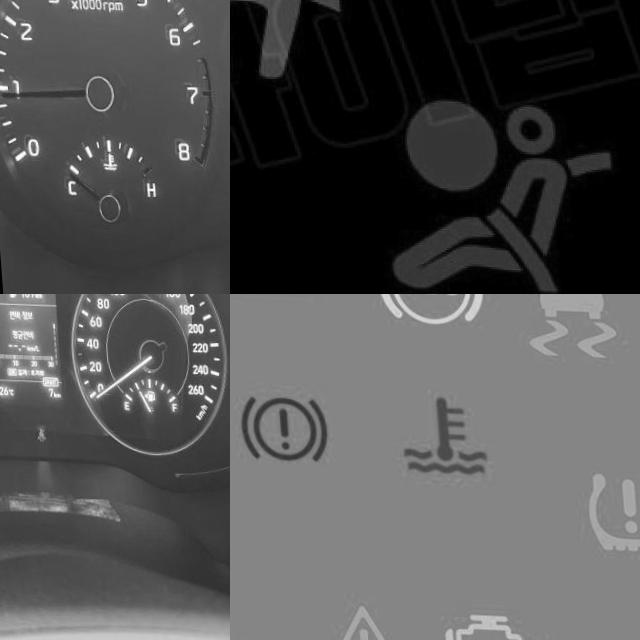High Engine Coolant Temperature: (379, 374, 500, 492)
